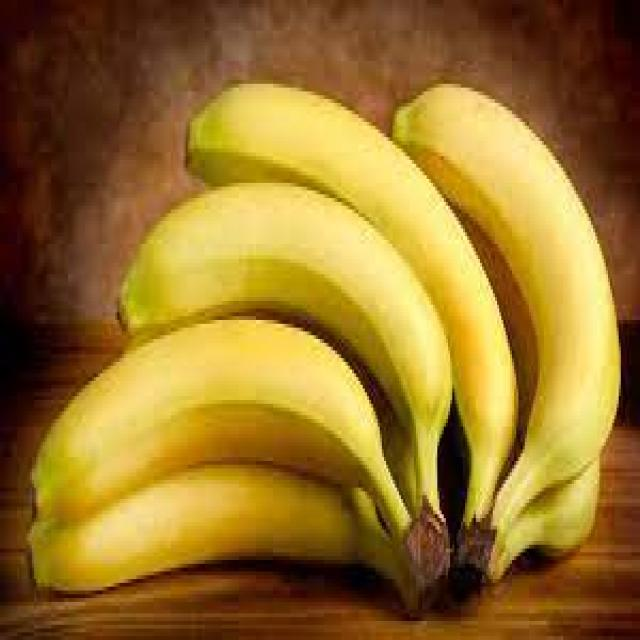banana: (24, 77, 620, 585)
